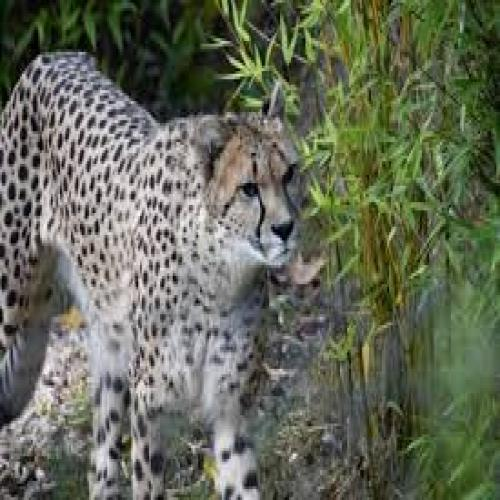cheetah-endangered: (0, 58, 307, 497)
